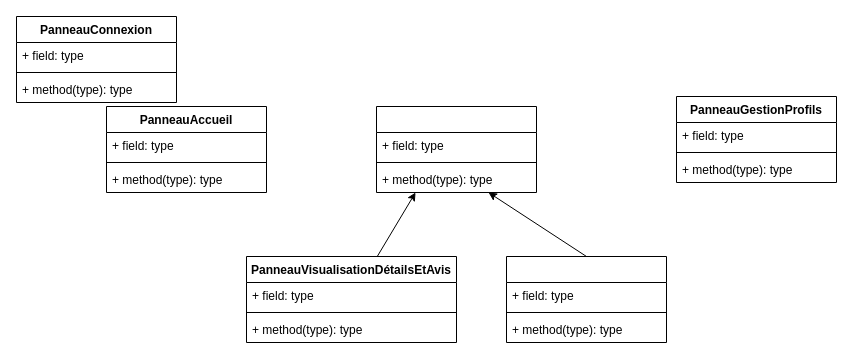
This 853x359 diagram has some shape labels left out. Each missing label, with the box of its shape:
PanneauAjouterFilm: (506, 256, 666, 342)
PanneauGestionFilms: (376, 106, 536, 192)
